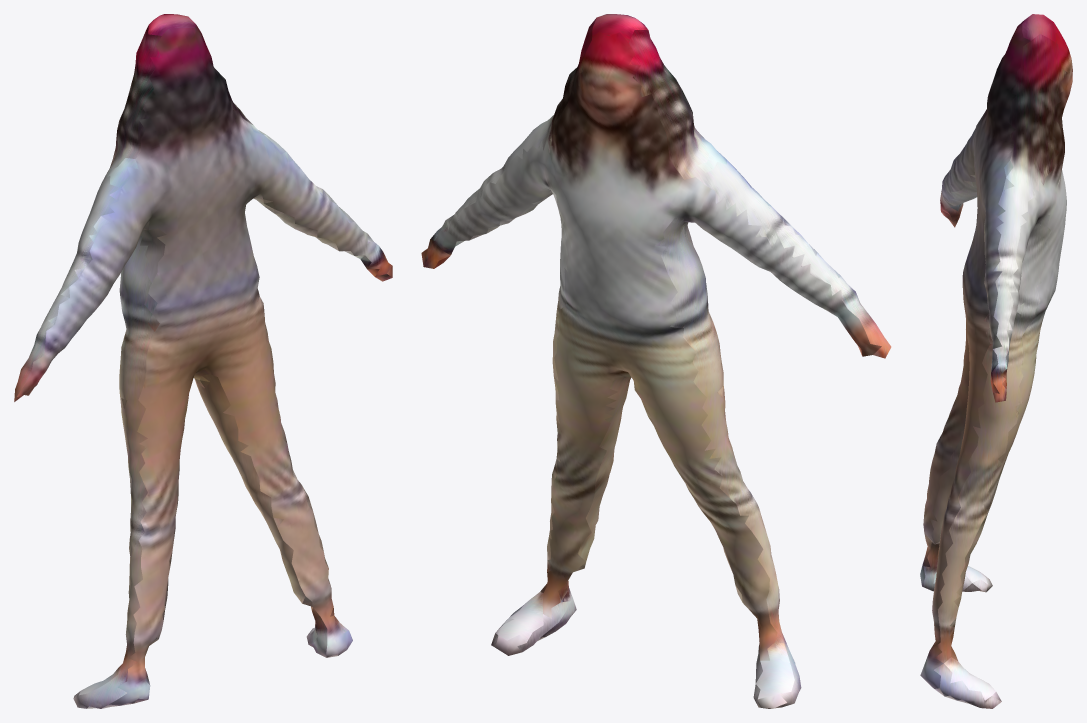
3 views of the same model, side by side, from view 1: azimuth 30°, elevation 25°; view 2: azimuth 150°, elevation 25°; view 3: azimuth 270°, elevation 25° (orthographic). The views are drawn at different scales.
Parts seen in each view (by area): view 1: world; view 2: world; view 3: world.
Boxes of the visible parts, box(x1,y1,x2,y2) form: world: box(14, 14, 392, 708); world: box(421, 14, 891, 708); world: box(920, 14, 1072, 708).
Bounding box in the file's own units: 0.5382 × 0.8099 × 0.1791.
Materials: 1 (1 with a texture image).
